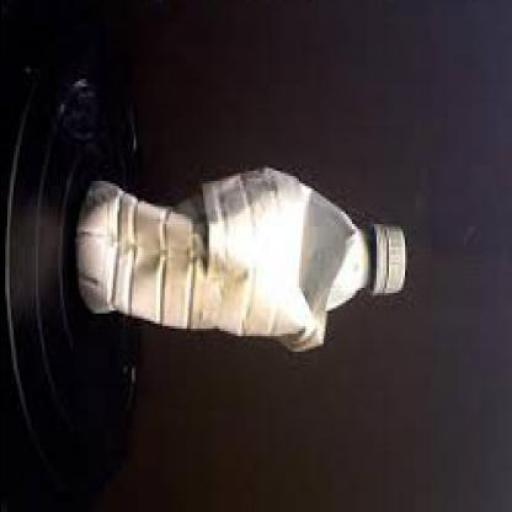plastic: (2, 33, 144, 502), (76, 168, 408, 359), (204, 170, 354, 356), (371, 226, 406, 298)
